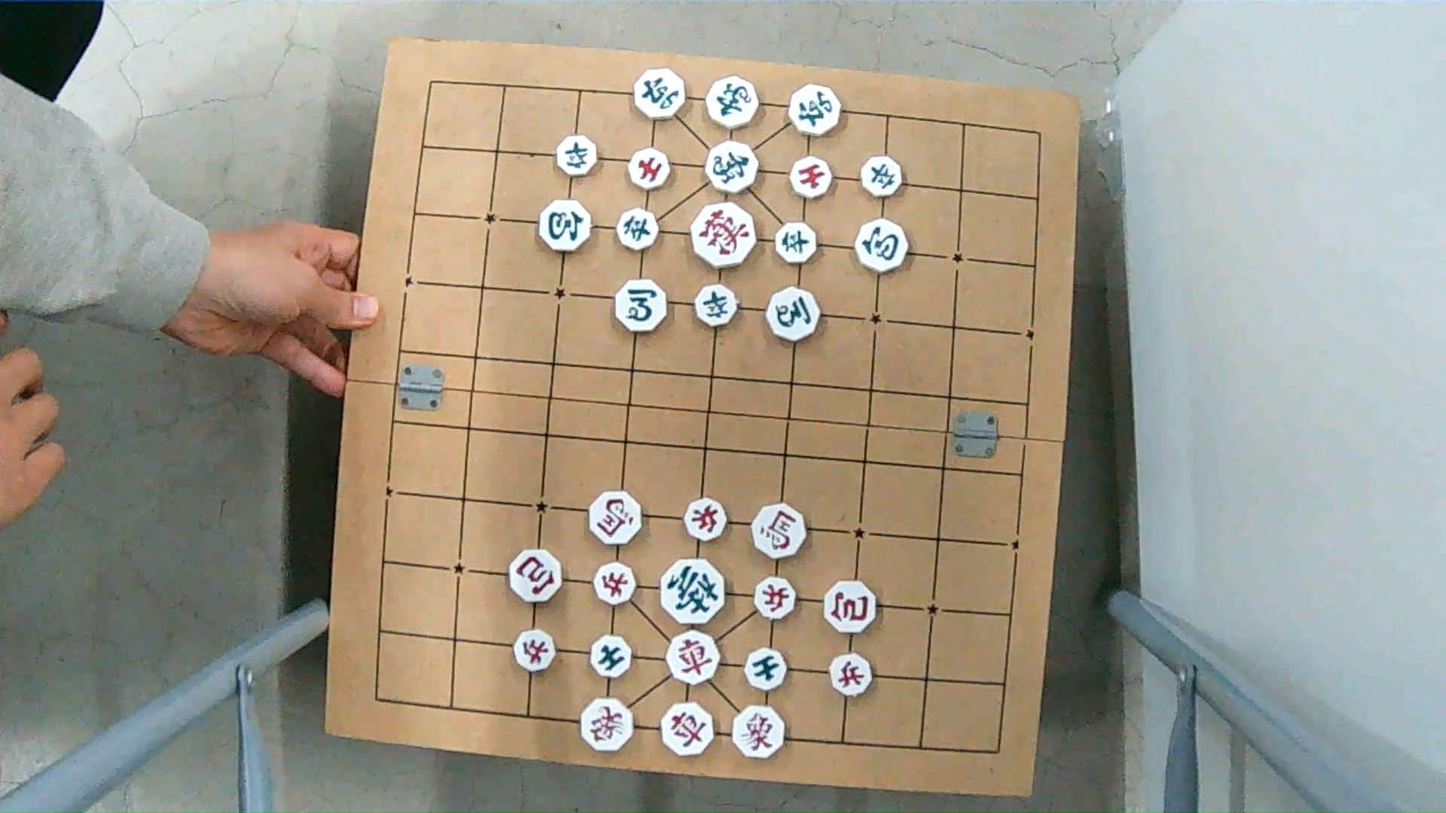cha_green: (786, 87, 843, 135), (630, 72, 686, 119)
cha_red: (658, 704, 716, 754), (666, 634, 723, 684)
jol_green: (615, 210, 663, 249), (554, 136, 600, 175), (693, 288, 739, 327), (772, 227, 819, 264), (861, 159, 905, 197)
jol_red: (593, 562, 641, 601), (685, 501, 732, 540), (826, 653, 871, 693), (755, 575, 795, 620), (514, 633, 560, 672)
ma_green: (767, 291, 825, 340), (613, 283, 668, 331)
ma_red: (753, 503, 810, 557), (589, 495, 648, 546)
po_green: (853, 220, 913, 270), (535, 202, 591, 251)
po_red: (820, 585, 879, 635), (509, 553, 568, 603)
sa_green: (741, 650, 790, 690), (591, 638, 636, 679)
sa_red: (786, 156, 830, 201), (627, 147, 671, 187)
sang_green: (704, 145, 760, 193), (705, 77, 757, 126)
sang_red: (578, 699, 638, 751), (733, 706, 790, 757)
wang_green: (660, 562, 731, 623)
wang_red: (691, 204, 760, 263)
